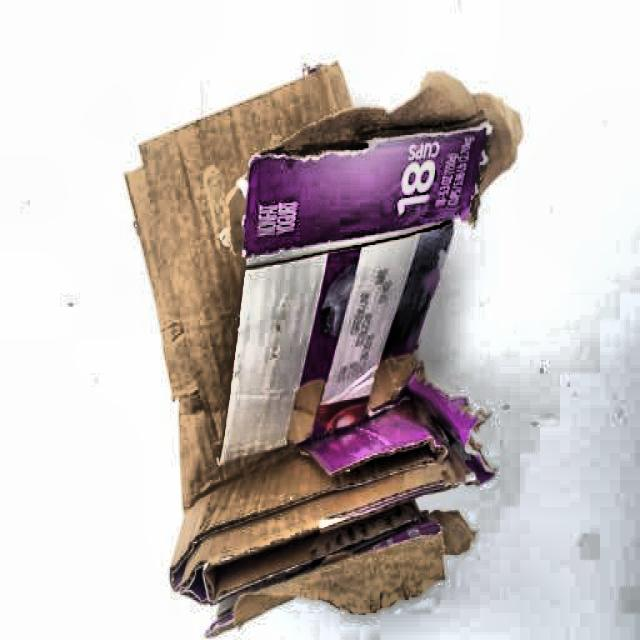cardboard: (124, 62, 513, 613)
